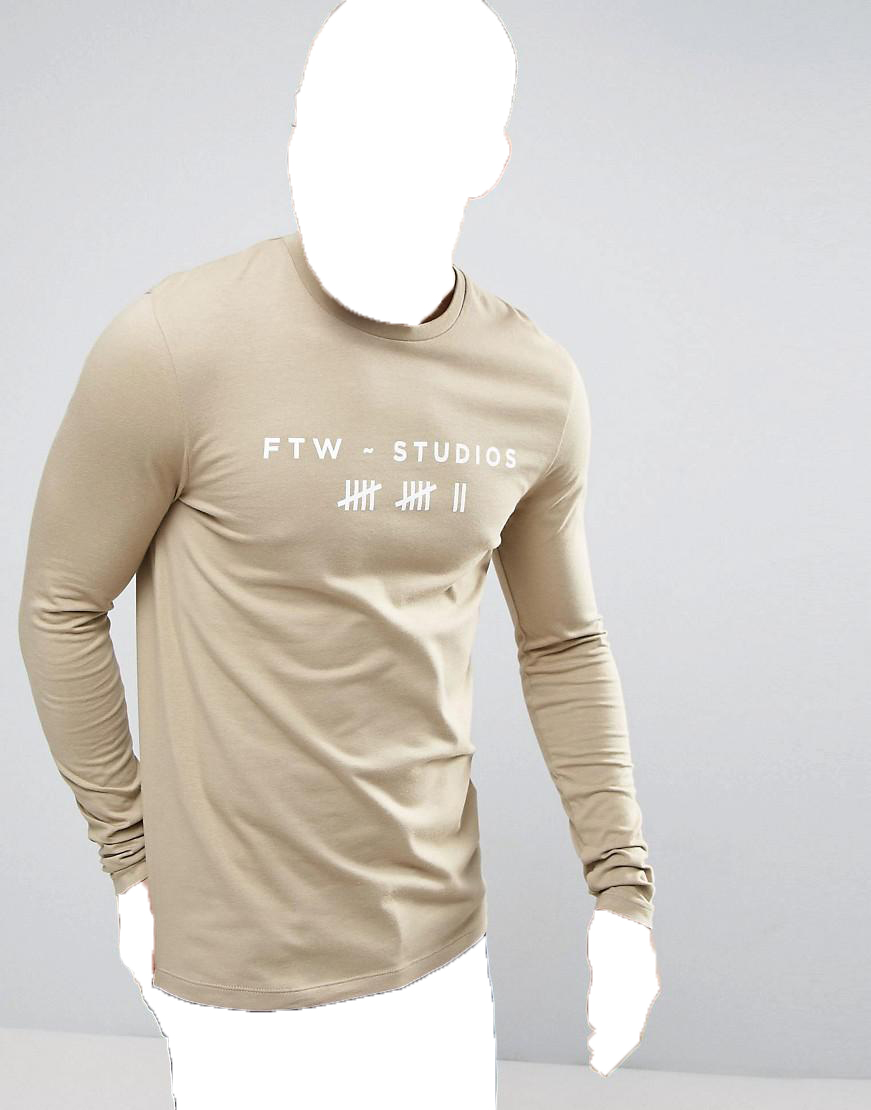teeshirt: (8, 230, 674, 1005)
